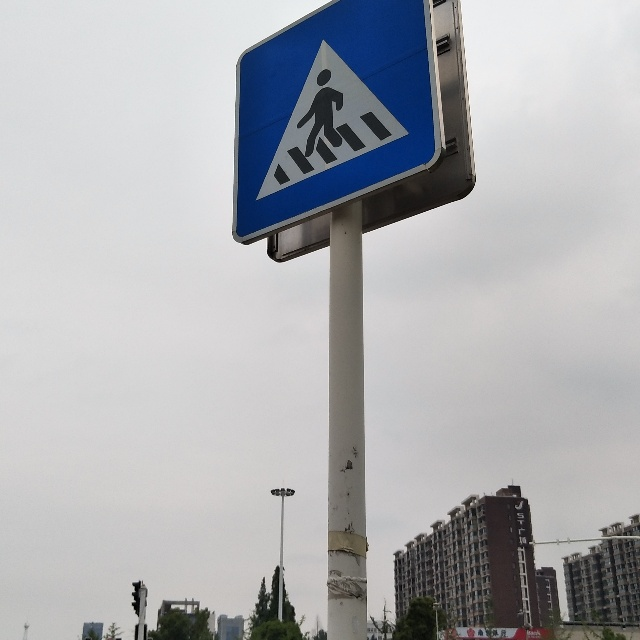crosswalk: (243, 39, 435, 200)
